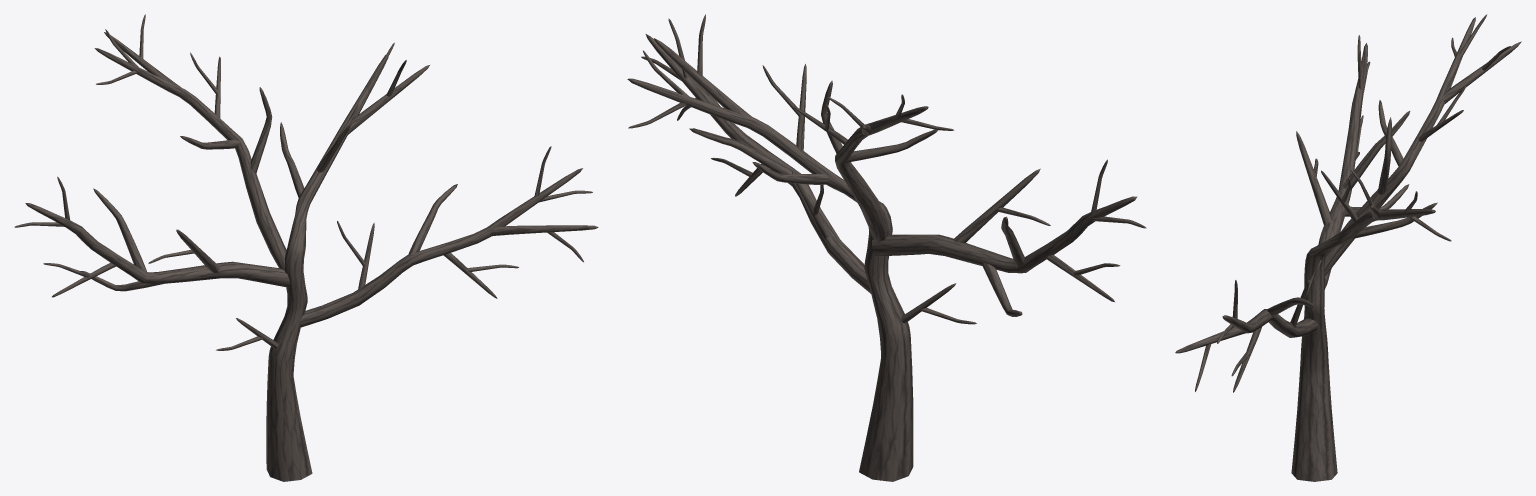
The model's file is DeadTree_8.glb.
3 views of the same model, side by side, from view 1: azimuth 30°, elevation 25°; view 2: azimuth 150°, elevation 25°; view 3: azimuth 270°, elevation 25° (orthographic). The views are drawn at different scales.
Visible parts, largest first — view 1: DeadTree_8; view 2: DeadTree_8; view 3: DeadTree_8.
Boxes of the visible parts, x1=… form: DeadTree_8: x1=14, y1=14, x2=598, y2=481; DeadTree_8: x1=627, y1=14, x2=1146, y2=481; DeadTree_8: x1=1175, y1=14, x2=1521, y2=481.
Size of the model in its own units: 8.17 by 6.28 by 4.8.
1 material, 1 textured.
